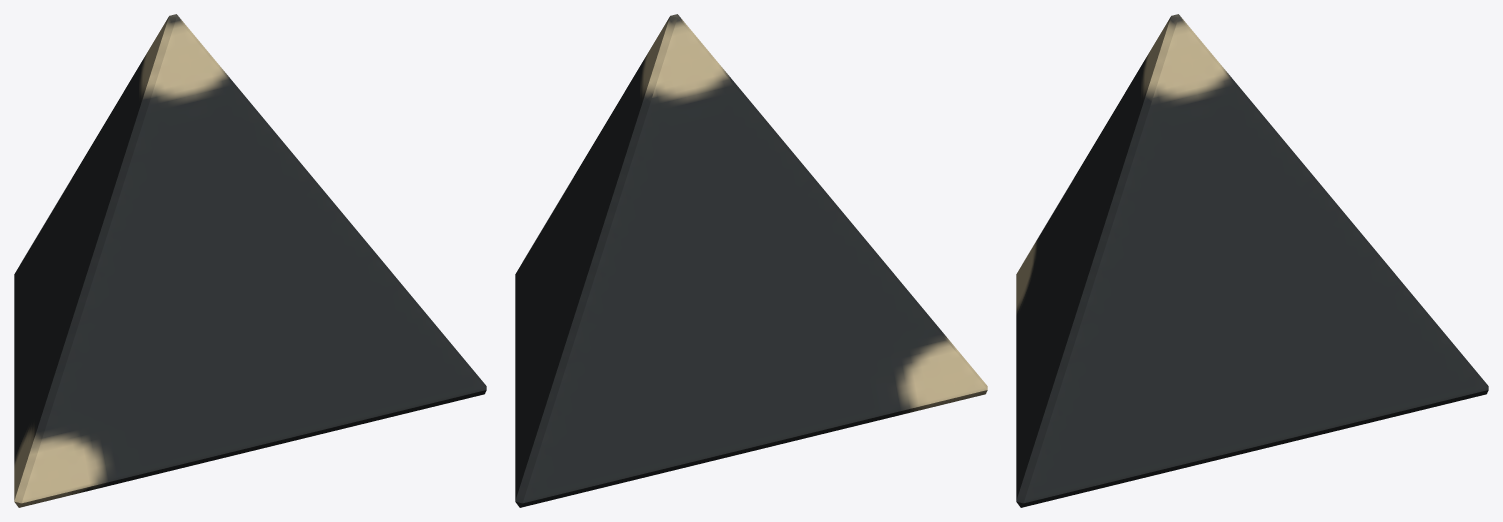
File: ur_die.glb
The picture shows the model from 3 angles, left to right: view 1: azimuth 30°, elevation 25°; view 2: azimuth 150°, elevation 25°; view 3: azimuth 270°, elevation 25°; orthographic projection.
Parts seen in each view (by area): view 1: UR_Die_Tetrahedron; view 2: UR_Die_Tetrahedron; view 3: UR_Die_Tetrahedron.
Part boxes in pixels (bbox=[...]): UR_Die_Tetrahedron: bbox=[14, 14, 486, 507]; UR_Die_Tetrahedron: bbox=[515, 14, 987, 507]; UR_Die_Tetrahedron: bbox=[1016, 14, 1488, 507].
Size of the model in its own units: 0.0165 by 0.0126 by 0.0143.
1 material, 1 textured.
